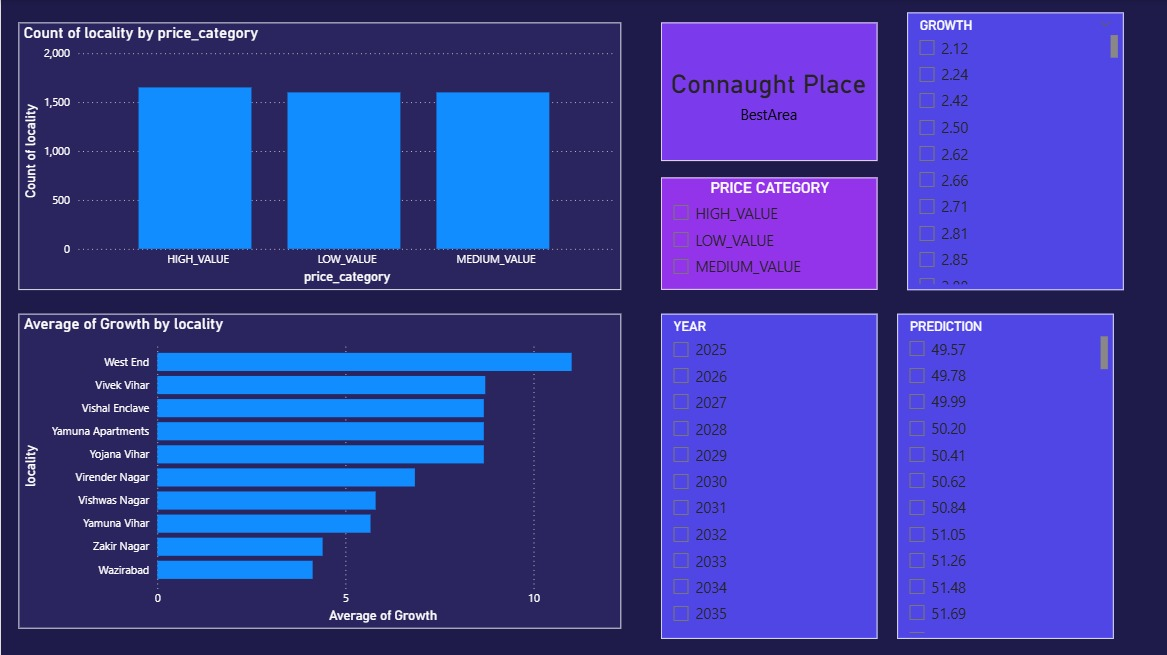

What the dashboard file says about the page in this screenshot:
{"tool":"powerbi","page":{"name":"Page 2","canvas":[1280,720],"ordinal":1},"visuals":[{"type":"clusteredColumnChart","fields":{"Category":["delhi_realestate.locality"],"Y":["Avg(delhi_realestate.Growth)"]},"box":[19.2,24.7,661.4,293.7],"z":0},{"type":"clusteredBarChart","fields":{"Category":["delhi_realestate.locality"],"Y":["Avg(delhi_realestate.Growth)"]},"box":[19.2,344.4,661.4,345.8],"z":1000},{"type":"card","fields":{"Values":["delhi_realestate.BestArea"]},"box":[724.5,24.7,237.4,152.3],"z":2000},{"type":"slicer","title":"PRICE CATEGORY","fields":{"Values":["delhi_realestate.price_category"]},"box":[724.5,194.9,237.4,123.5],"z":3000},{"type":"slicer","fields":{"Values":["delhi_realestate.Growth"]},"box":[994.9,13.7,237.4,304.6],"z":4000},{"type":"slicer","fields":{"Values":["delhi_realestate.year"]},"box":[724.5,344.4,237.4,356.8],"z":5000},{"type":"slicer","fields":{"Values":["delhi_realestate.prediction"]},"box":[983.9,344.4,237.4,356.8],"z":6000}]}

Visuals, with their boxes in screenshot pixels (x1, y1, x2, y2), scaled from the page's 1280x720 canvas onto the 1167x655 screenshot:
clusteredColumnChart - delhi_realestate.locality x Avg(delhi_realestate.Growth): box=[18, 22, 621, 290]
clusteredBarChart - delhi_realestate.locality x Avg(delhi_realestate.Growth): box=[18, 313, 621, 628]
card - delhi_realestate.BestArea: box=[661, 22, 877, 161]
"PRICE CATEGORY" slicer: box=[661, 177, 877, 290]
slicer - delhi_realestate.Growth: box=[907, 12, 1124, 290]
slicer - delhi_realestate.year: box=[661, 313, 877, 638]
slicer - delhi_realestate.prediction: box=[897, 313, 1113, 638]
